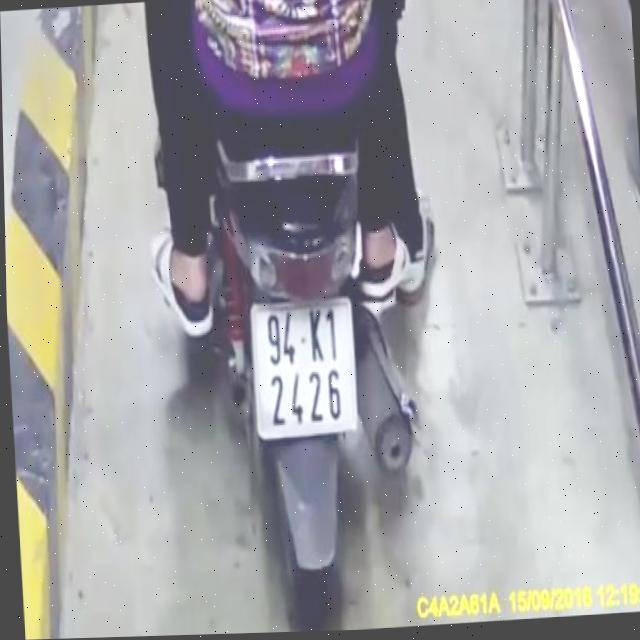motorcycle: (183, 87, 442, 634)
plate: (233, 288, 367, 443)
